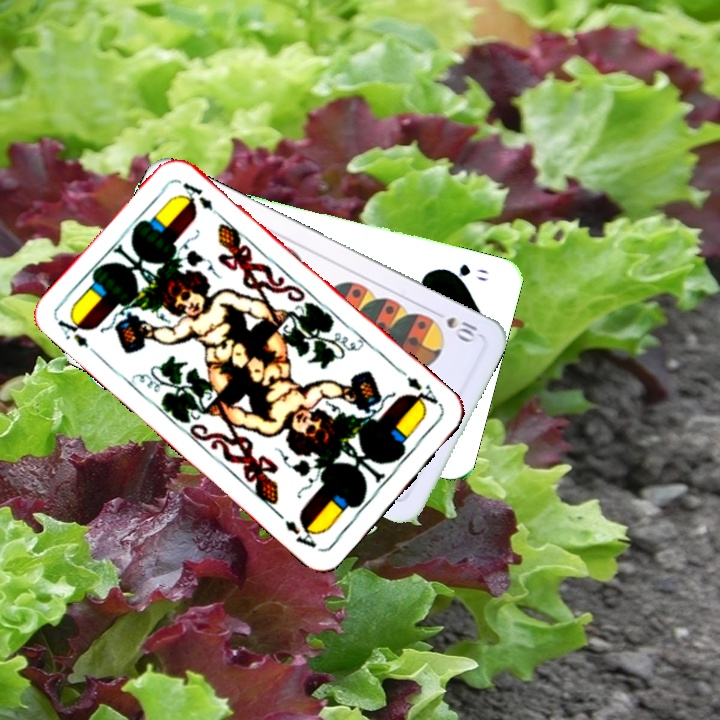EA: (53, 310, 102, 359), (402, 372, 445, 413)
GO: (438, 260, 490, 284)
S10: (428, 306, 483, 344)
